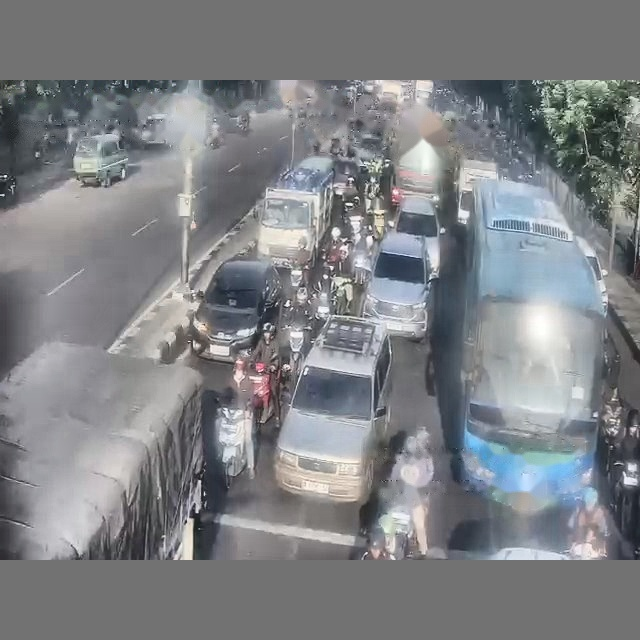Bis: (461, 179, 605, 512)
Mobil: (275, 316, 391, 503), (190, 256, 284, 361), (363, 232, 433, 341), (390, 194, 445, 276), (575, 236, 607, 310), (334, 158, 363, 198), (354, 132, 388, 163), (486, 547, 567, 560), (140, 113, 169, 147), (0, 172, 16, 206), (363, 80, 375, 93)
Motor: (215, 406, 254, 488), (613, 461, 639, 537)
Truk: (0, 342, 203, 559), (257, 156, 334, 269), (457, 158, 498, 224)
